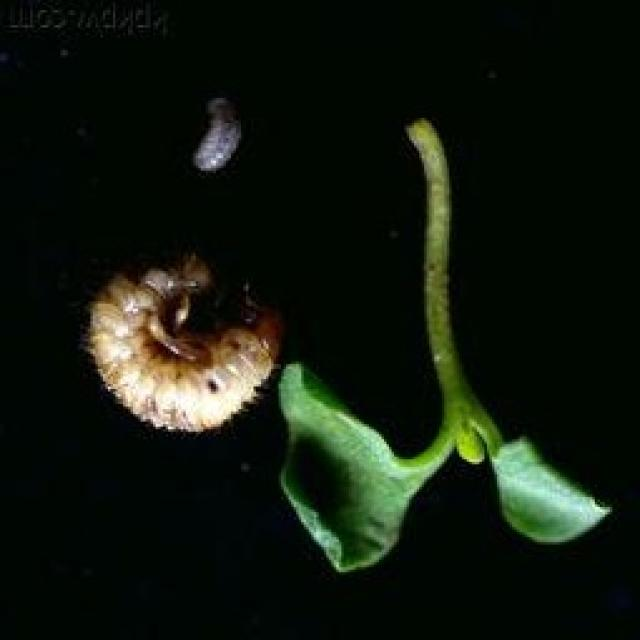grub: (64, 245, 285, 446)
